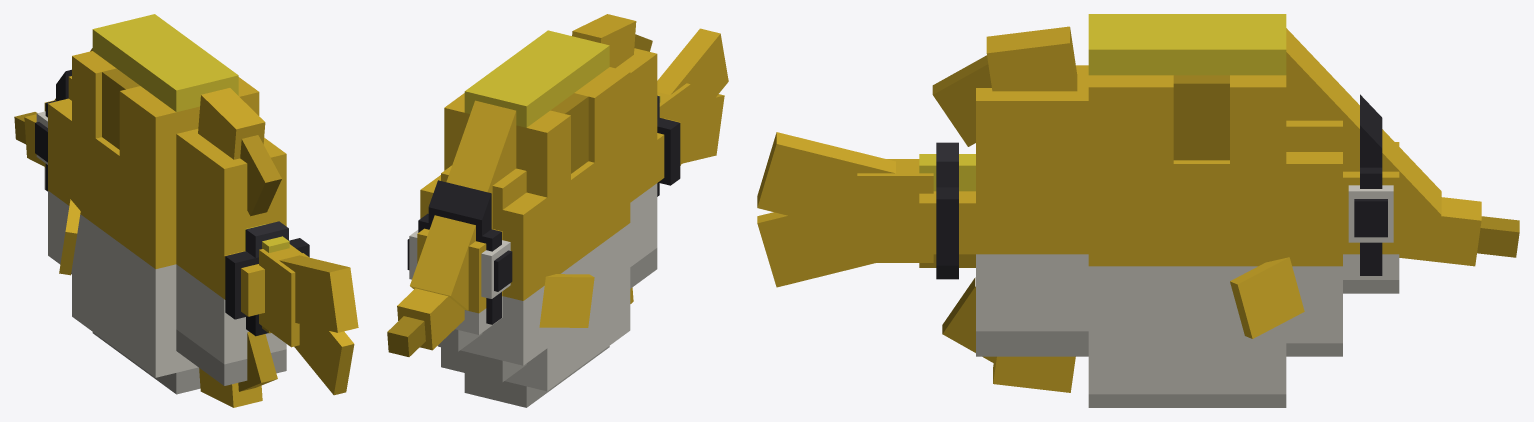
File: Butterflyfish.glb
The picture shows the model from 3 angles, left to right: view 1: azimuth 30°, elevation 25°; view 2: azimuth 150°, elevation 25°; view 3: azimuth 270°, elevation 25°; orthographic projection. The views are drawn at different scales.
Visible parts, largest first — view 1: Head, Rear, Tail, Stalk; view 2: Head, Rear, Tail, Stalk; view 3: Head, Rear, Tail, Stalk.
Part boxes in pixels (x1,y1,x2,y2): Head: (14,14,259,394); Rear: (176,88,286,407); Tail: (259,244,358,395); Stalk: (224,221,309,336); Head: (387,30,630,407); Rear: (572,14,657,303); Tail: (657,28,728,164); Stalk: (657,95,680,196); Head: (1088,14,1519,407); Rear: (932,26,1088,392); Tail: (757,132,933,287); Stalk: (919,142,975,279).
Bounding box in the file's own units: 2.66 × 4.9 × 9.45.
